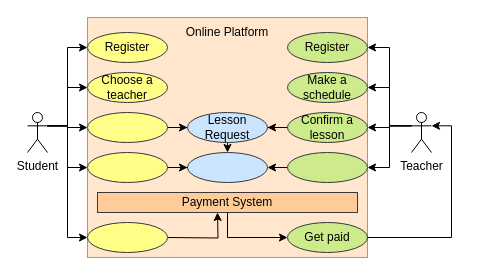
Some shapes in this 477 by 275 pixel diagram are drawn without their labels. Here are the shapes that lost their labels. From the top down, the centre of each, then its label:
the point at 127,127: Book a lesson
the point at 127,167: Join a lesson
the point at 227,167: Lesson
the point at 327,167: Conduct a lesson
the point at 127,237: Pay a lesson
